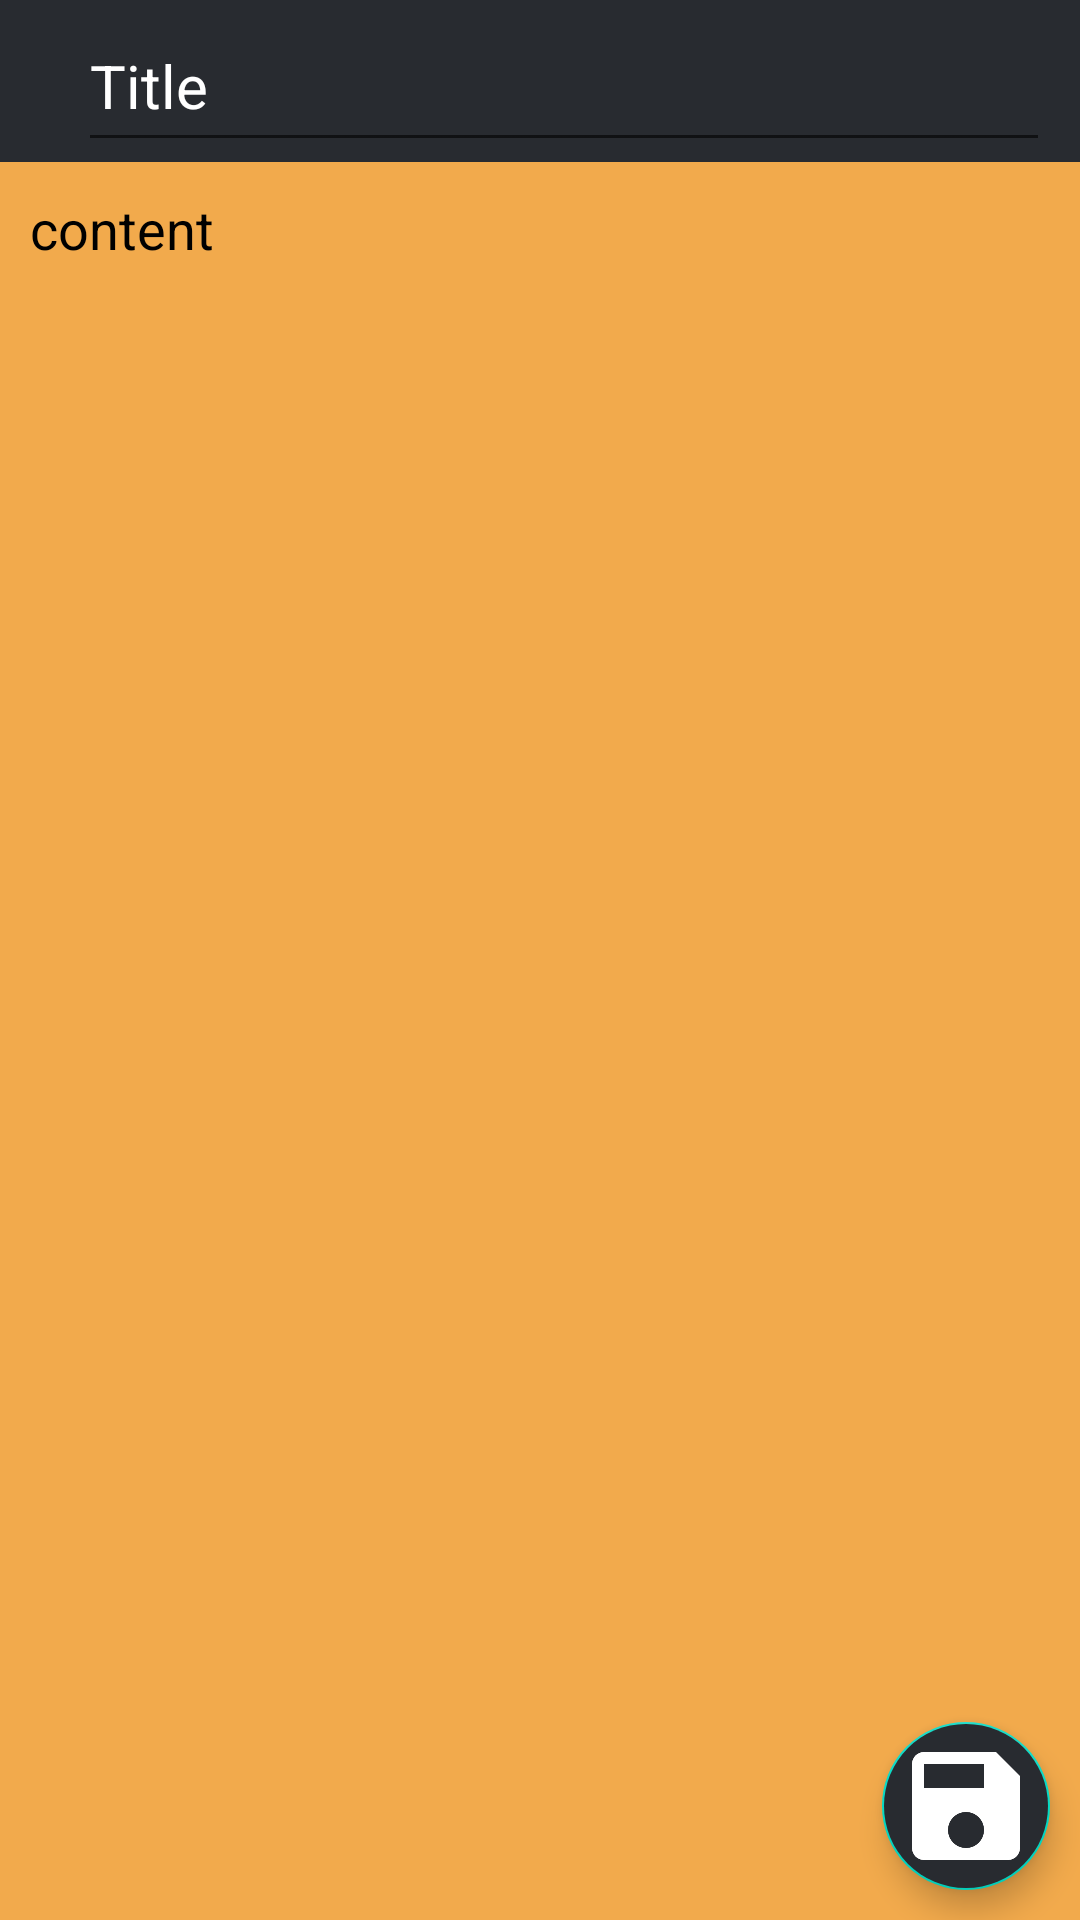

Point at icon controls on the screen. Image size 1080x1920, points as point (x, y).
save: point (966, 1806)
